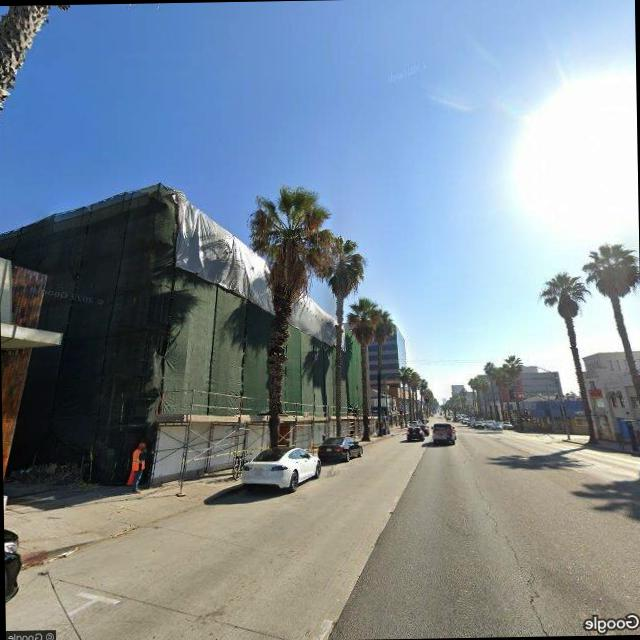crack: (474, 481, 564, 634)
